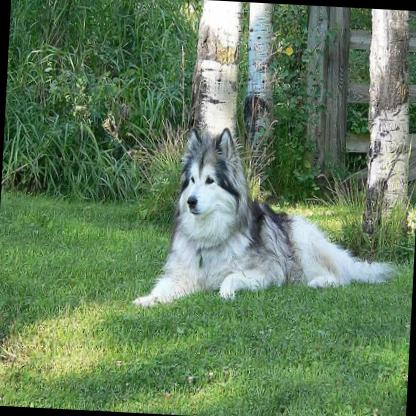malamute: (130, 123, 401, 318)
